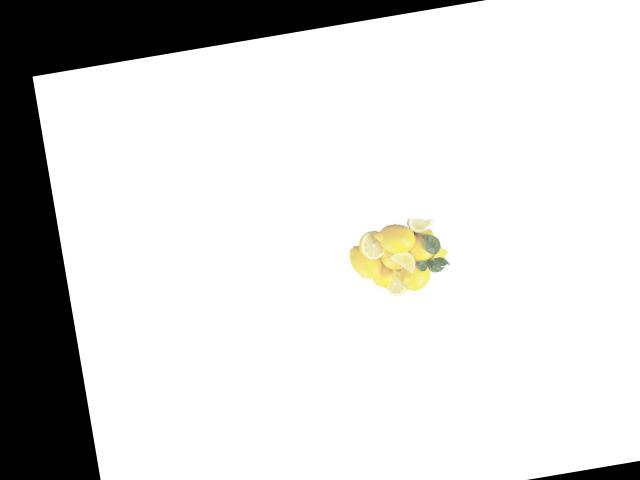lemon: (402, 227, 440, 263)
